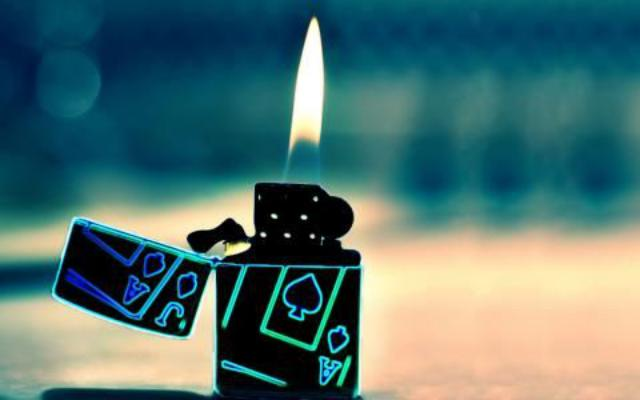fire: (285, 15, 323, 157)
